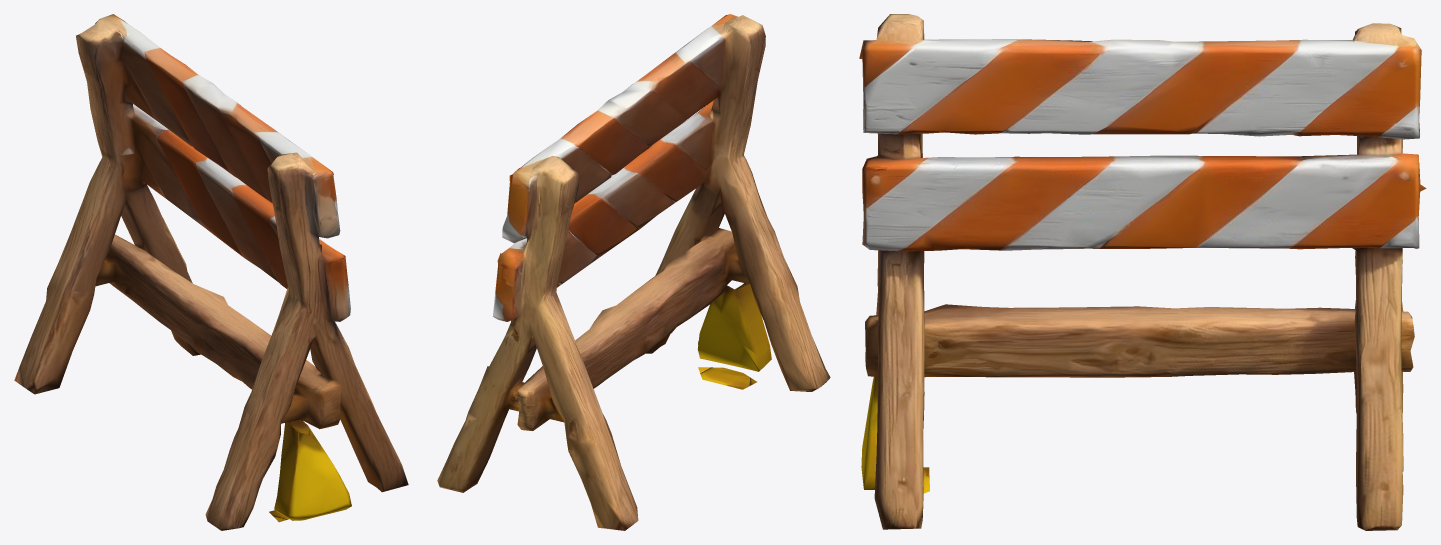
Rendered from barreira.glb.
The picture shows the model from 3 angles, left to right: view 1: azimuth 30°, elevation 25°; view 2: azimuth 150°, elevation 25°; view 3: azimuth 270°, elevation 25°; orthographic projection. The views are drawn at different scales.
Visible parts, largest first — view 1: tripo_node_684eafb9-f6e7-49e5-a33c-f1b1b0dfe25f; view 2: tripo_node_684eafb9-f6e7-49e5-a33c-f1b1b0dfe25f; view 3: tripo_node_684eafb9-f6e7-49e5-a33c-f1b1b0dfe25f.
Part boxes in pixels (x1,y1,x2,y2): tripo_node_684eafb9-f6e7-49e5-a33c-f1b1b0dfe25f: (14,14,408,530); tripo_node_684eafb9-f6e7-49e5-a33c-f1b1b0dfe25f: (437,14,830,530); tripo_node_684eafb9-f6e7-49e5-a33c-f1b1b0dfe25f: (859,14,1426,530).
Bounding box in the file's own units: 0.4973 × 0.8877 × 1.
1 material, 1 textured.
